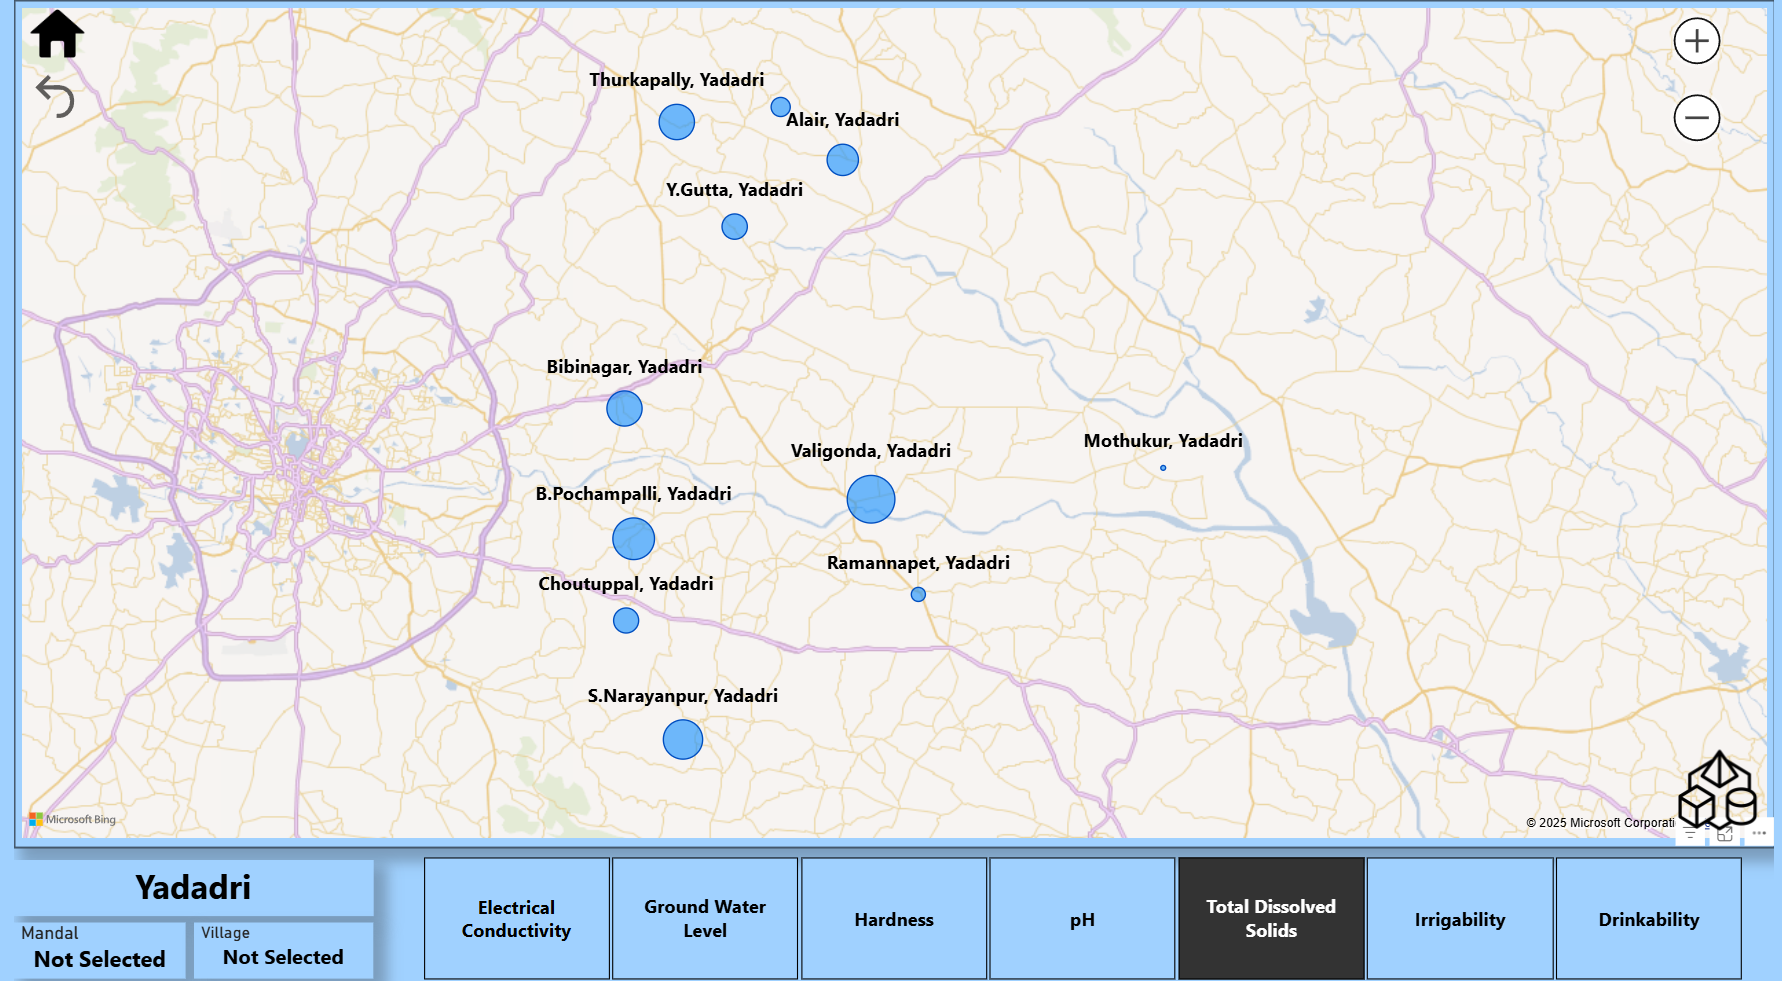

What the dashboard file says about the page in this screenshot:
{"tool":"powerbi","page":{"name":"Map","canvas":[1280,720],"ordinal":4},"visuals":[{"type":"azureMap","title":"Standard Map","fields":{"Size":["Water Measures.Electrical Conductivity"],"Y":["Avg(Cleaned Data.Latitude)"],"X":["Avg(Cleaned Data.Longitude)"],"Category":["Cleaned Data.District Hierarchy.District","Cleaned Data.District Hierarchy.Mandal","Cleaned Data.District Hierarchy.Village"]},"box":[0,0,1280.6,616.4],"z":0},{"type":"card","title":"District","fields":{"Values":["Water Measures.Drill District"]},"box":[0,625.5,261.2,41.1],"z":0,"group":"g1"},{"type":"group","id":"g1","title":"Location Names","box":[0,616.8,261.2,95.8],"z":1000},{"type":"card","title":"Mandal","fields":{"Values":["Water Measures.Drill Mandal"]},"box":[0.1,671.5,125.1,41.1],"z":1000,"group":"g1"},{"type":"slicer","title":"Normal Paras","fields":{"Values":["Bubble Size Parameter.Bubble Size Parameter"]},"box":[271.6,616.4,1009,103],"z":2000},{"type":"card","title":"Village","fields":{"Values":["Water Measures.Drill Village"]},"box":[131.1,671.5,130.1,41.1],"z":2000,"group":"g1"},{"type":"image","title":"Home","box":[0,0,62.7,49.3],"z":3000},{"type":"textbox","box":[0,616.8,42.4,28.3],"z":3000,"group":"g1"},{"type":"actionButton","title":"Reset View","box":[9,49.3,43.3,41.8],"z":4000},{"type":"image","box":[1198.5,534.3,82.1,82.1],"z":5000}]}

Visuals, with their boxes in screenshot pixels (x1, y1, x2, y2), scaled from the page's 1280x720 canvas onto the 1782x981 screenshot:
"Standard Map" azureMap: {"x1": 0, "y1": 0, "x2": 1781, "y2": 840}
"District" card: {"x1": 0, "y1": 852, "x2": 364, "y2": 908}
"Location Names" group: {"x1": 0, "y1": 840, "x2": 364, "y2": 971}
"Mandal" card: {"x1": 0, "y1": 915, "x2": 174, "y2": 971}
"Normal Paras" slicer: {"x1": 378, "y1": 840, "x2": 1781, "y2": 980}
"Village" card: {"x1": 183, "y1": 915, "x2": 364, "y2": 971}
"Home" image: {"x1": 0, "y1": 0, "x2": 87, "y2": 67}
textbox: {"x1": 0, "y1": 840, "x2": 59, "y2": 879}
"Reset View" actionButton: {"x1": 13, "y1": 67, "x2": 73, "y2": 124}
image: {"x1": 1669, "y1": 728, "x2": 1781, "y2": 840}
